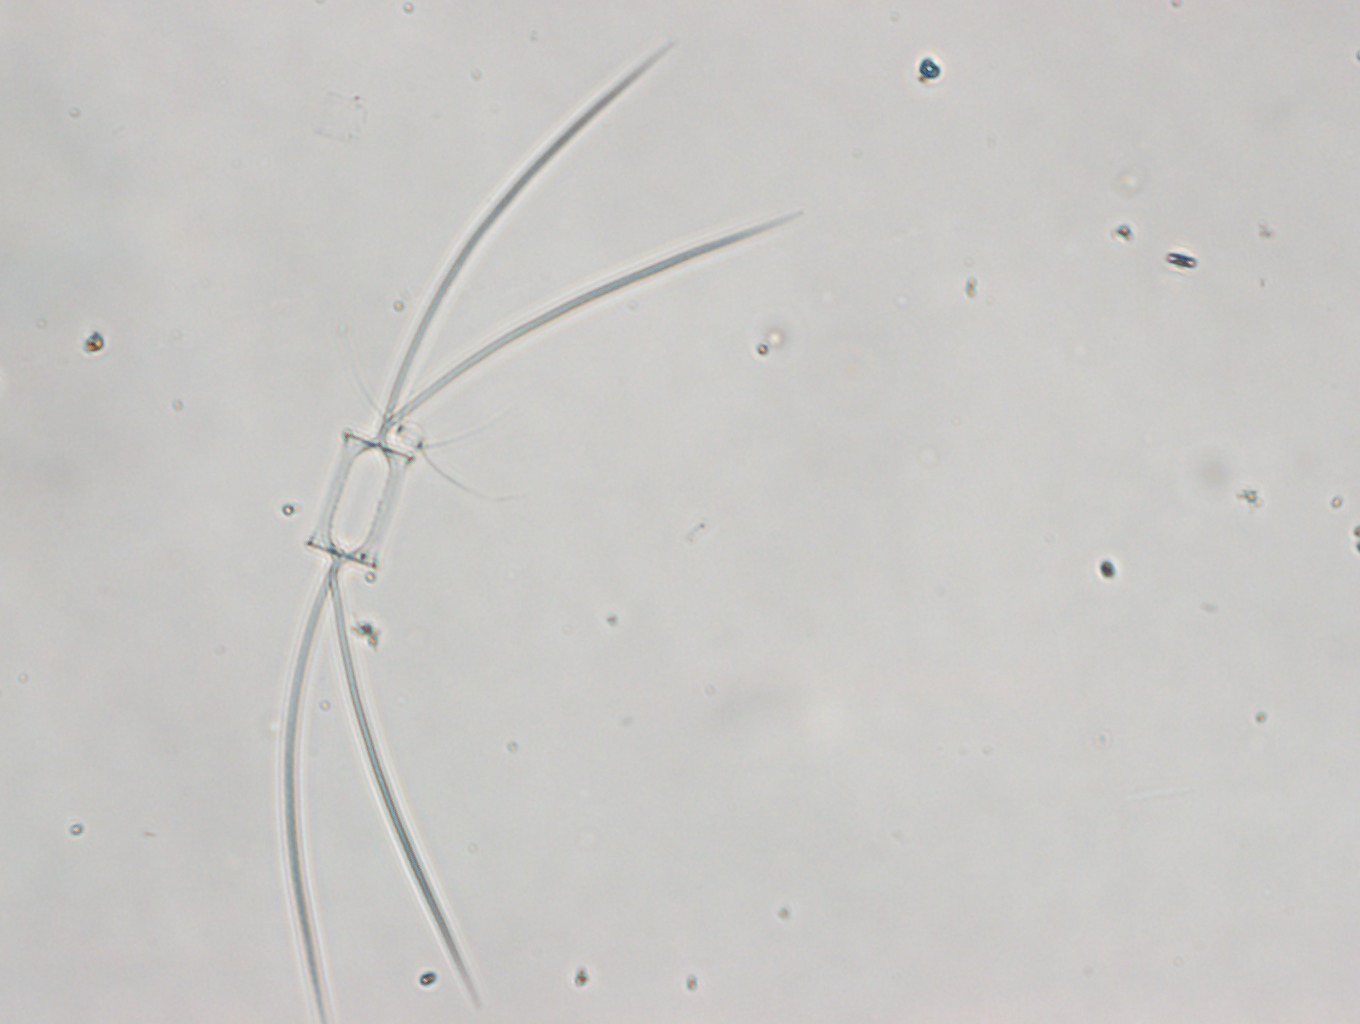chaetoceros: (280, 39, 794, 1023)
